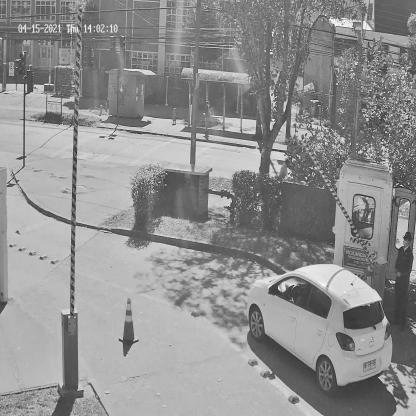Patente: (363, 359, 378, 373)
